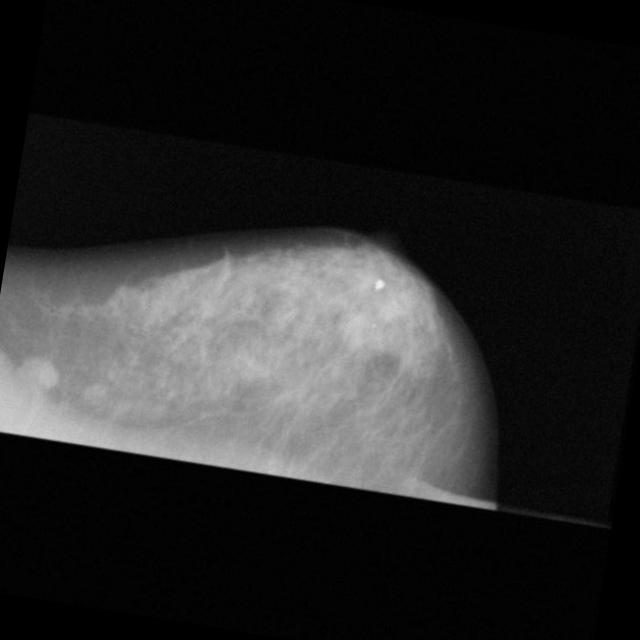CIRC: (0, 322, 88, 425)
